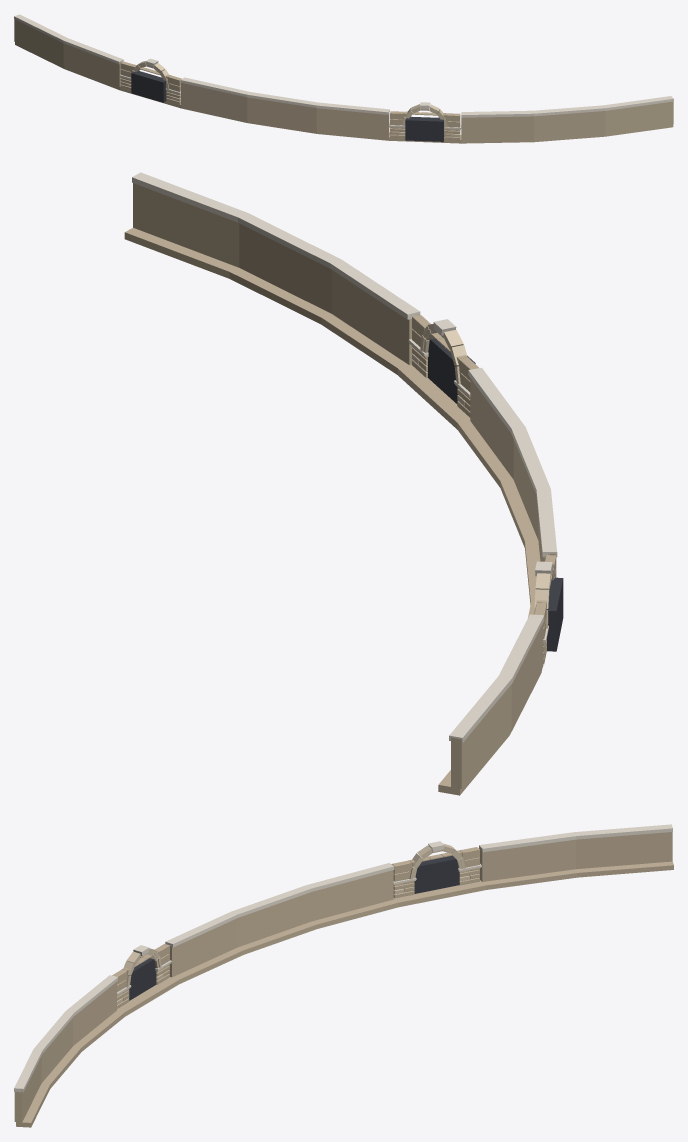
The model's file is COL_Vomitoria_Q2.glb.
The picture shows the model from 3 angles, top to bottom: view 1: azimuth 30°, elevation 25°; view 2: azimuth 150°, elevation 25°; view 3: azimuth 270°, elevation 25°; orthographic projection. The views are drawn at different scales.
Visible parts, largest first — view 1: COL_Vomitoria_Q2; view 2: COL_Vomitoria_Q2; view 3: COL_Vomitoria_Q2.
Part boxes in pixels (x1,y1,x2,y2): COL_Vomitoria_Q2: (14, 14, 673, 143); COL_Vomitoria_Q2: (124, 172, 563, 795); COL_Vomitoria_Q2: (14, 824, 673, 1127).
Size of the model in its own units: 97.89 by 8.56 by 103.
